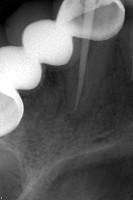Furcation Involvement: (66, 109, 94, 128)
